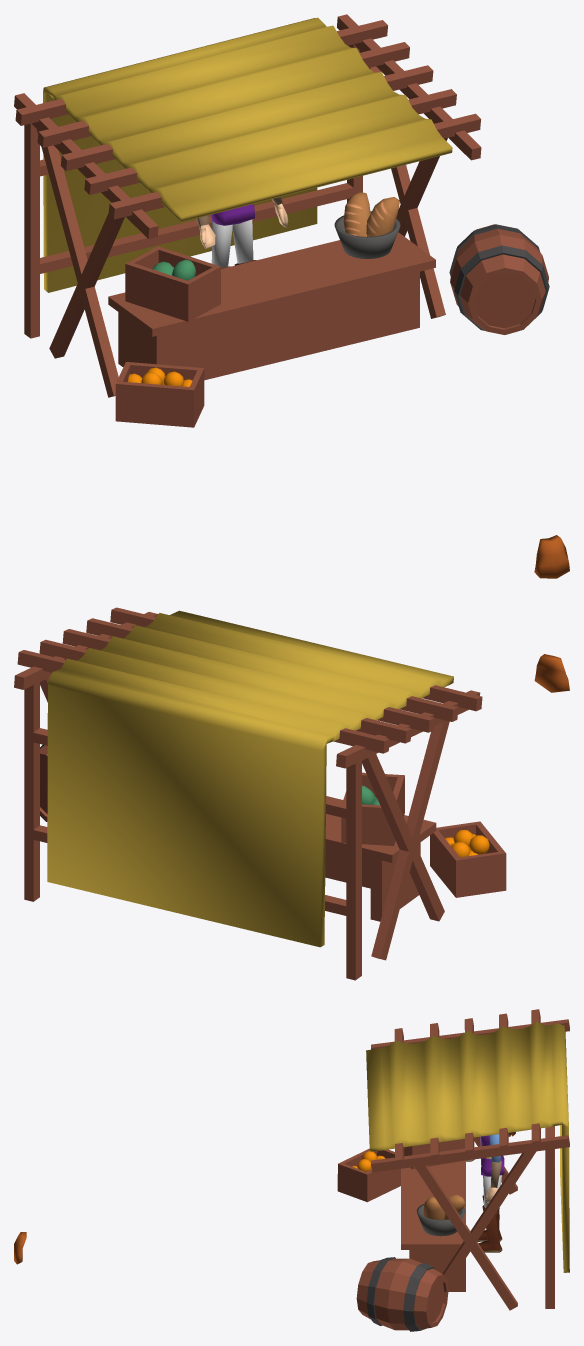
The model's file is market_stand2.fbx.
3 renders of one model, top to bottom at view 1: azimuth 30°, elevation 25°; view 2: azimuth 150°, elevation 25°; view 3: azimuth 270°, elevation 25°, orthographic. The views are drawn at different scales.
Parts seen in each view (by area): view 1: tarp1, wood, main_table, barrel, box2, box4, bread, bowl, beard fix, thigh, thigh2; view 2: tarp1, wood, box4, main_table, box2, beard fix, barrel; view 3: tarp1, wood, barrel, main_table, box4, bowl, box2, bread, boot1.001.
Boxes of the visible parts, x1,y1,x2,y2 form: tarp1: [43, 17, 452, 292]; wood: [14, 14, 481, 397]; main_table: [108, 232, 435, 380]; barrel: [449, 224, 549, 334]; box2: [125, 246, 220, 321]; box4: [115, 362, 204, 427]; bread: [343, 192, 399, 236]; bowl: [334, 211, 400, 258]; beard fix: [534, 535, 569, 578]; thigh: [232, 219, 253, 263]; thigh2: [211, 220, 232, 268]; tarp1: [47, 610, 453, 947]; wood: [14, 607, 482, 980]; box4: [430, 821, 506, 897]; main_table: [325, 796, 436, 921]; box2: [341, 772, 404, 845]; beard fix: [534, 654, 569, 692]; barrel: [40, 745, 47, 821]; tarp1: [366, 1021, 569, 1272]; wood: [371, 1009, 569, 1310]; barrel: [356, 1257, 448, 1331]; main_table: [401, 1160, 465, 1291]; box4: [337, 1148, 400, 1202]; bowl: [416, 1204, 465, 1236]; box2: [404, 1139, 464, 1169]; bread: [423, 1194, 465, 1219]; boot1.001: [478, 1205, 502, 1252].
Bounding box in the file's own units: 1349 × 744 × 1964.
